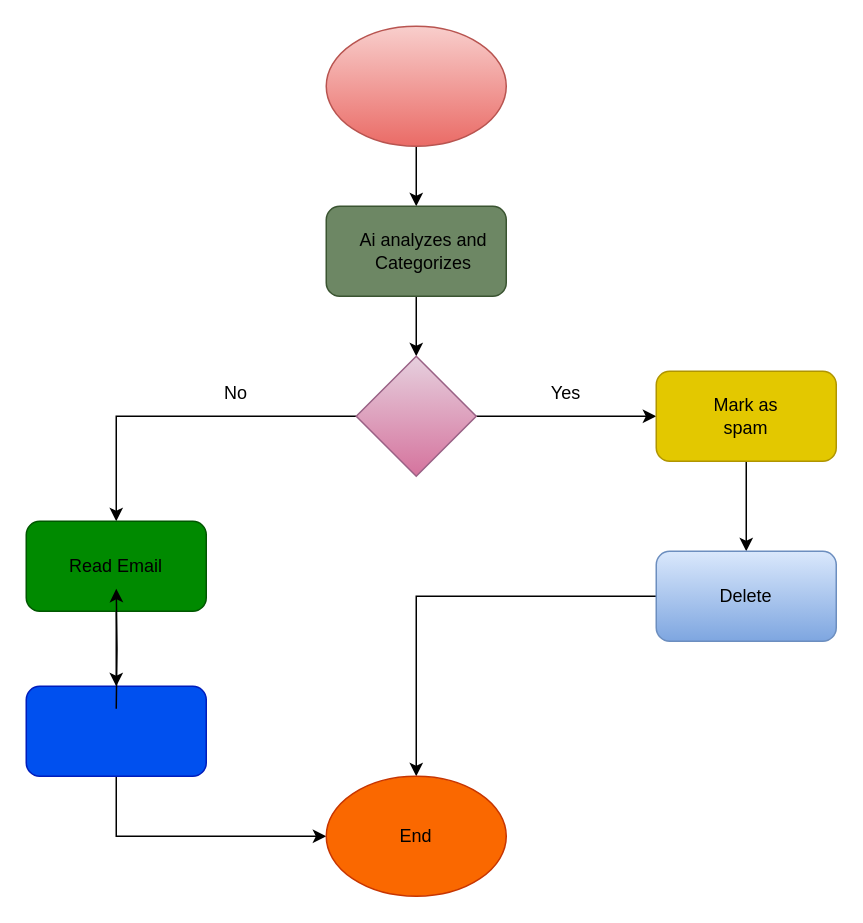
The diagram is 863 pixels wide and 923 high, and some of its shapes have lost their labels. Each missing label, with the box of its shape:
Email: (325, 25, 506, 146)
is this spam email?: (355, 355, 476, 476)
Respond: (25, 685, 206, 776)
